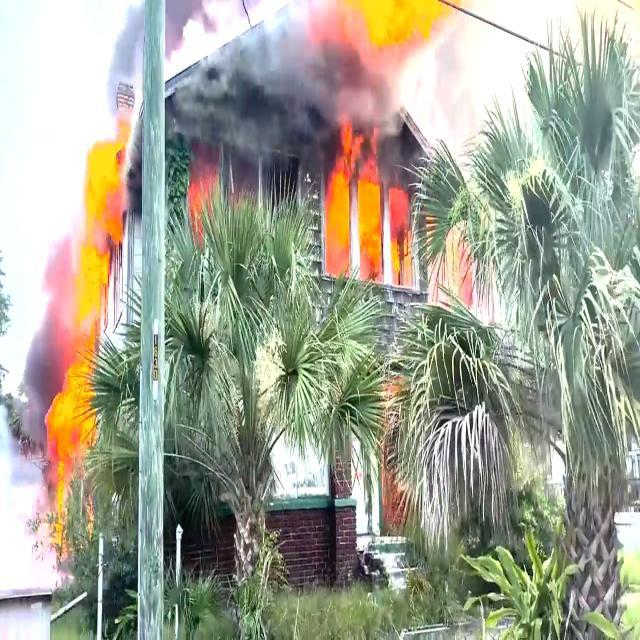Fire: (27, 372, 99, 520), (338, 182, 408, 294), (370, 0, 460, 70), (86, 145, 136, 241), (74, 246, 108, 338), (185, 166, 219, 222)
Smoke: (192, 26, 366, 160)
